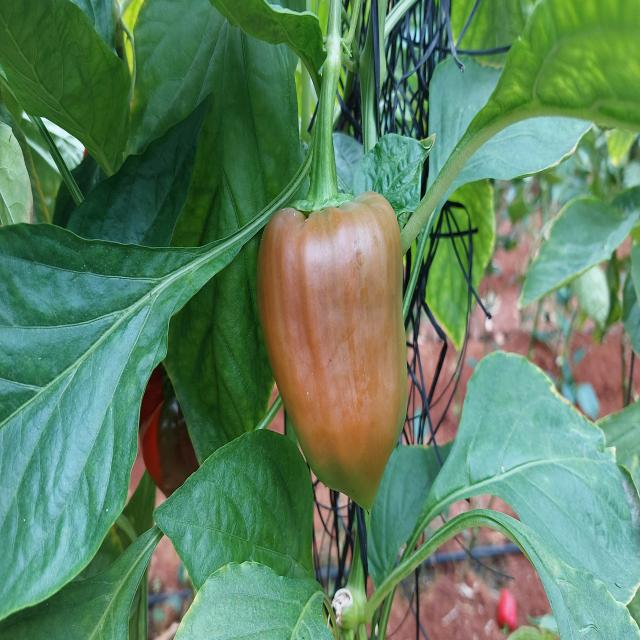BrownishRed--Can-be-Harvested: (278, 187, 411, 501)
